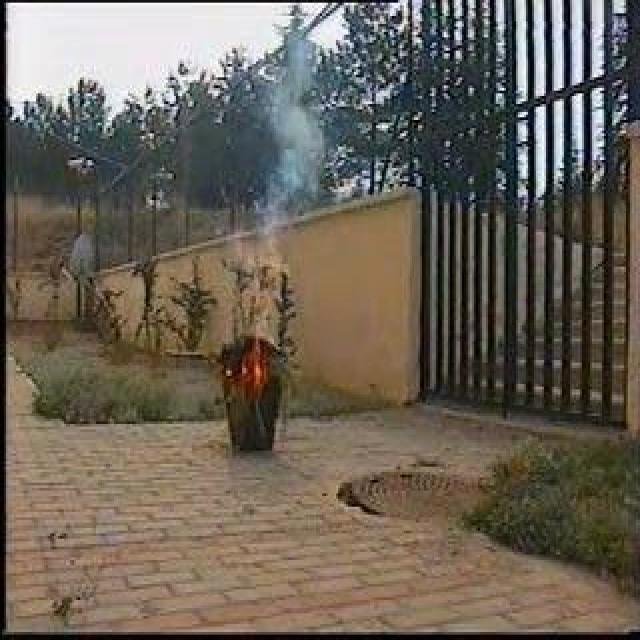Fire: (238, 353, 268, 388)
